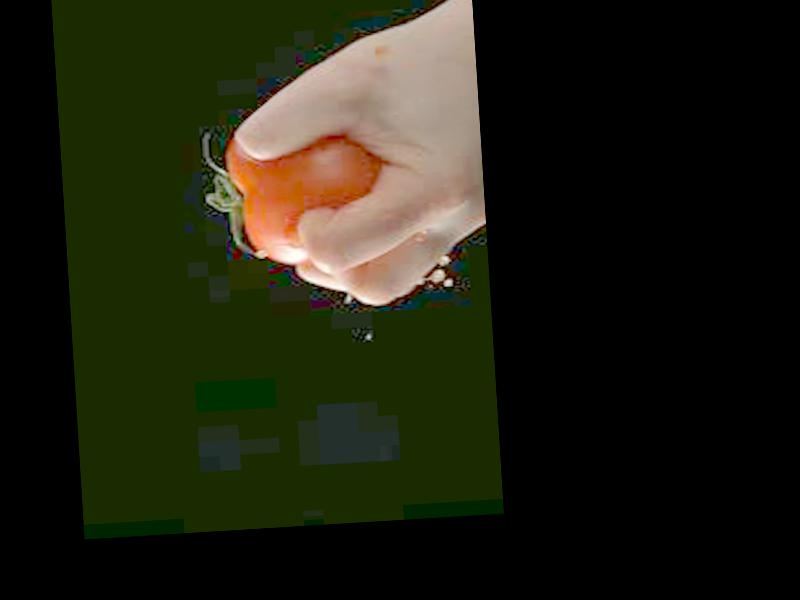Tomato: (225, 128, 385, 267)
